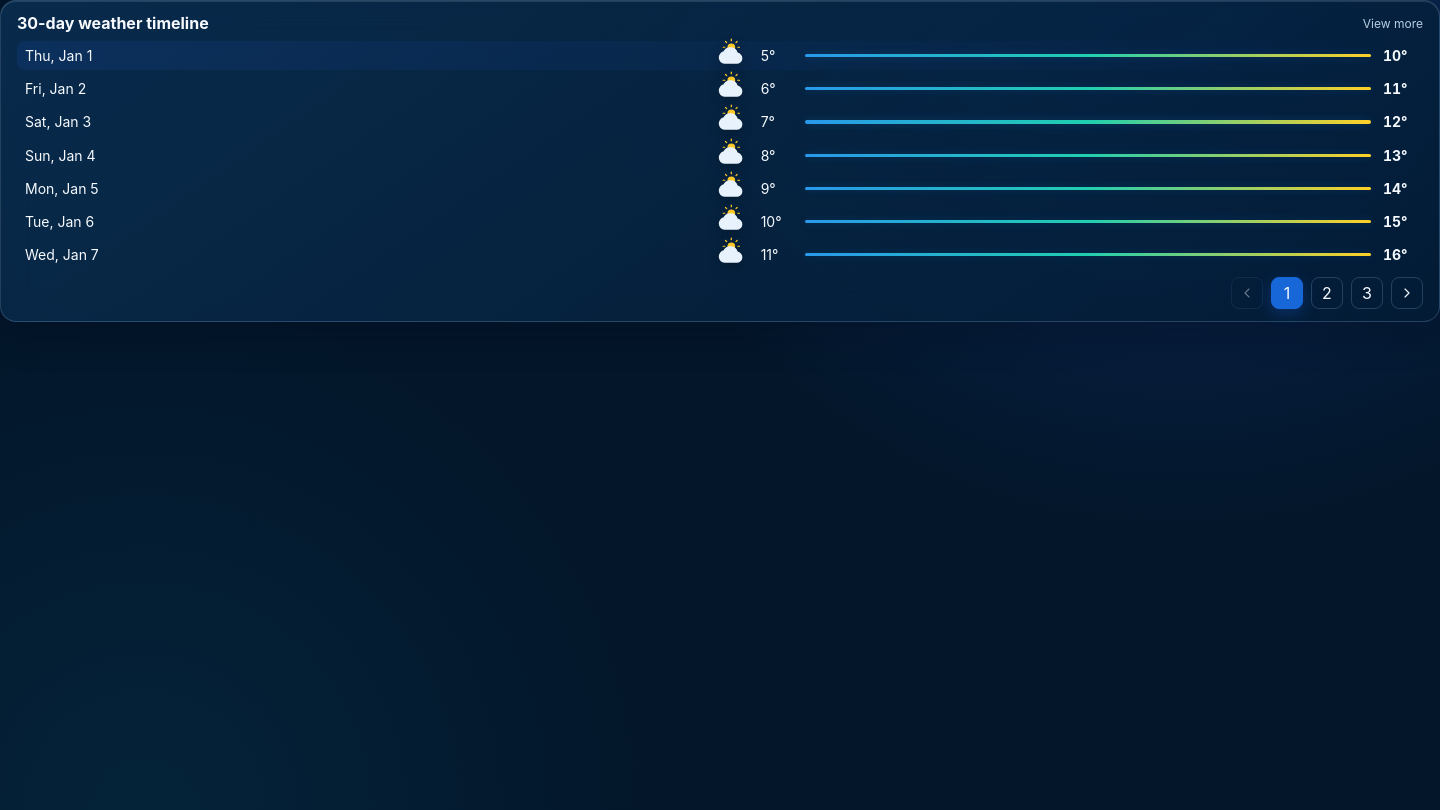
DailyForecast › navigates pages and enforces previous and next boundaries
This screenshot has width=1440, height=810.
Expected: the button named "Previous page" is disabled, [1231,277,1263,309]
Expected: the text "Thu, Jan 1" is shown, [25,47,92,64]
Click the button named "Next page" at (1407, 293), box [1391,277,1423,309]
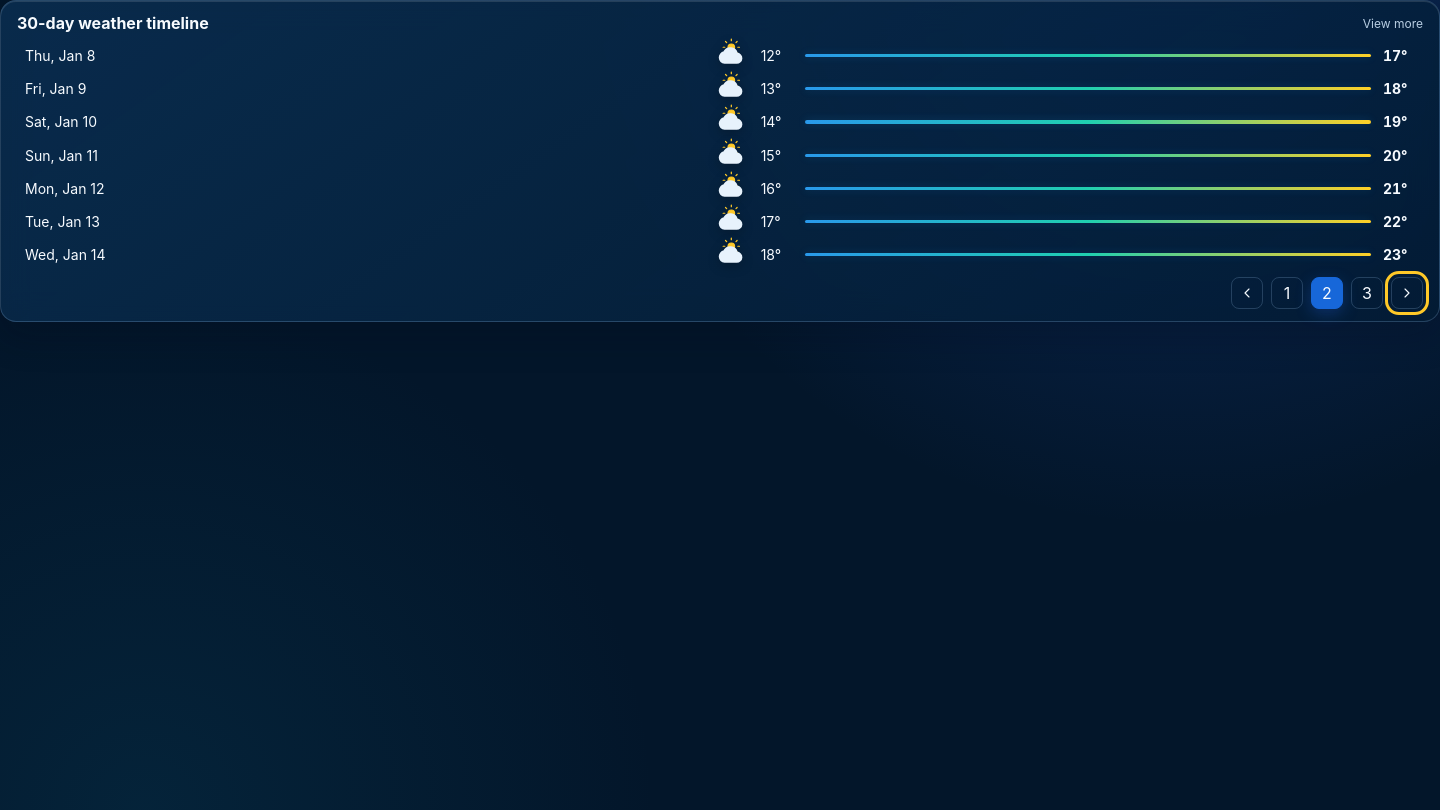
Expected: the text "Thu, Jan 8" is shown, [25,47,95,64]
Click the button named "Next page" at (1407, 293), box [1391,277,1423,309]
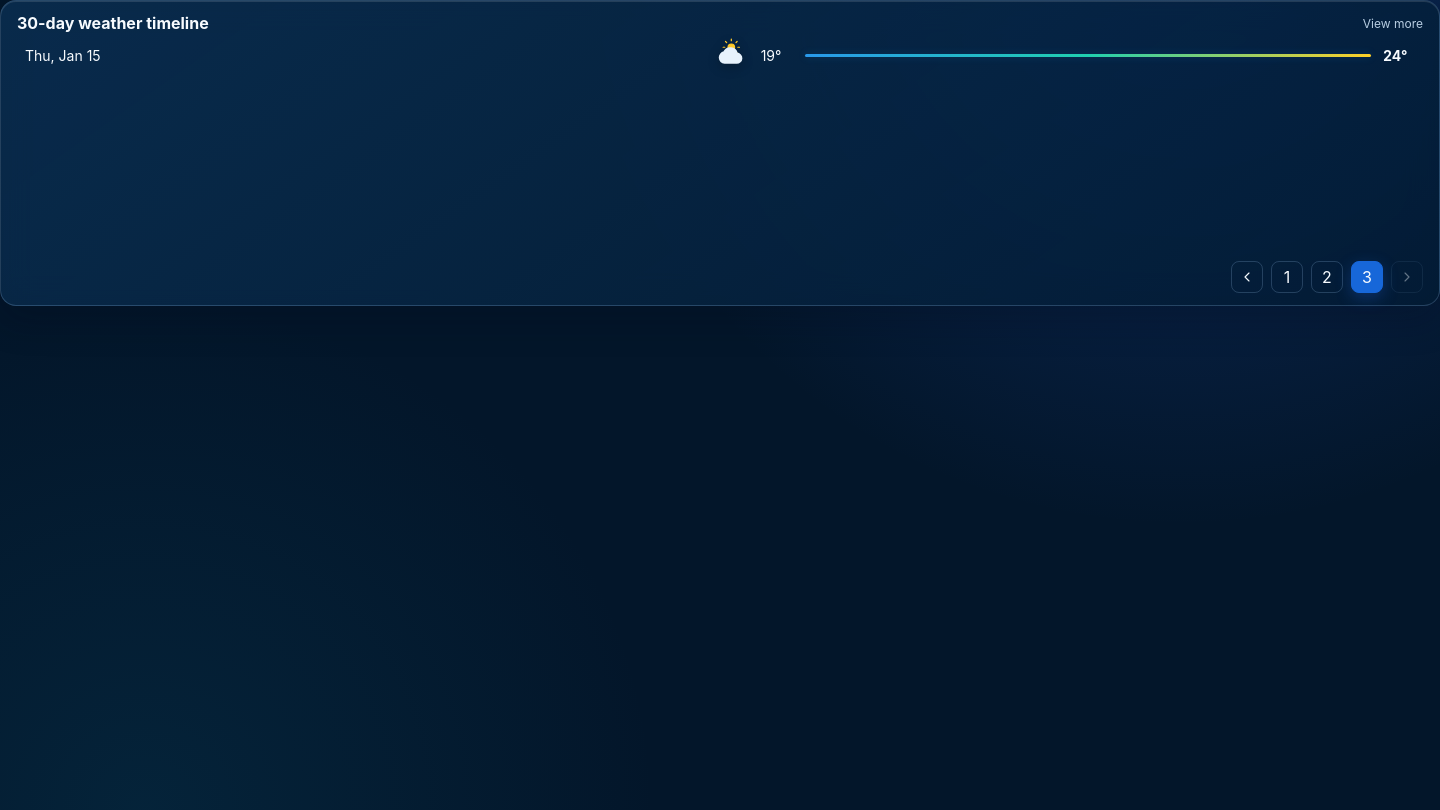
Result: the text "Thu, Jan 15" is shown at [25,47,101,64]
Result: the button named "Next page" is disabled at [1391,260,1423,292]
Click the button named "Previous page" at (1247, 276), box [1231,260,1263,292]
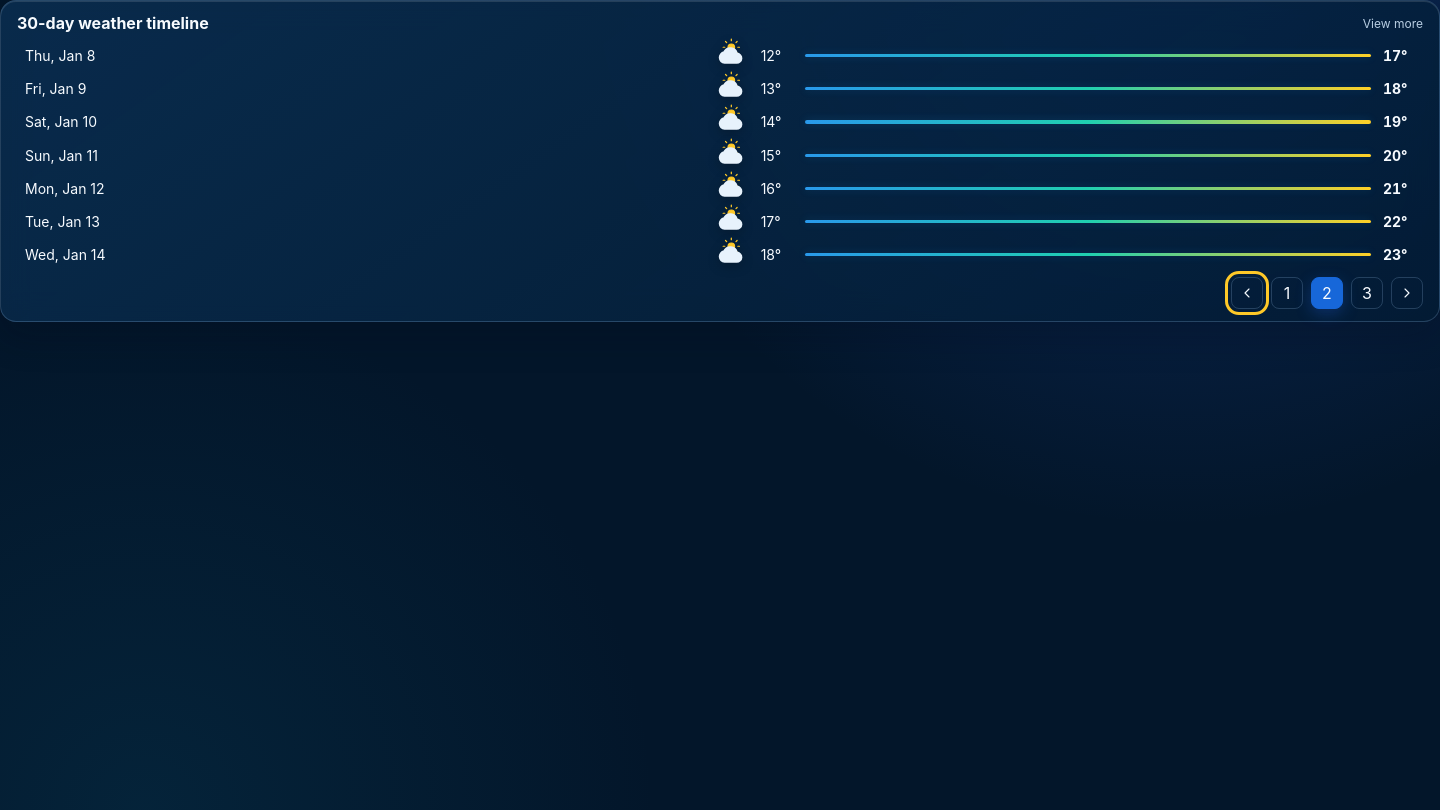
Result: the text "Thu, Jan 8" is shown at [25,47,95,64]
